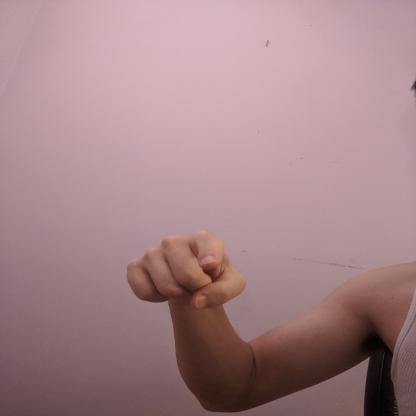Z: (122, 228, 250, 312)
